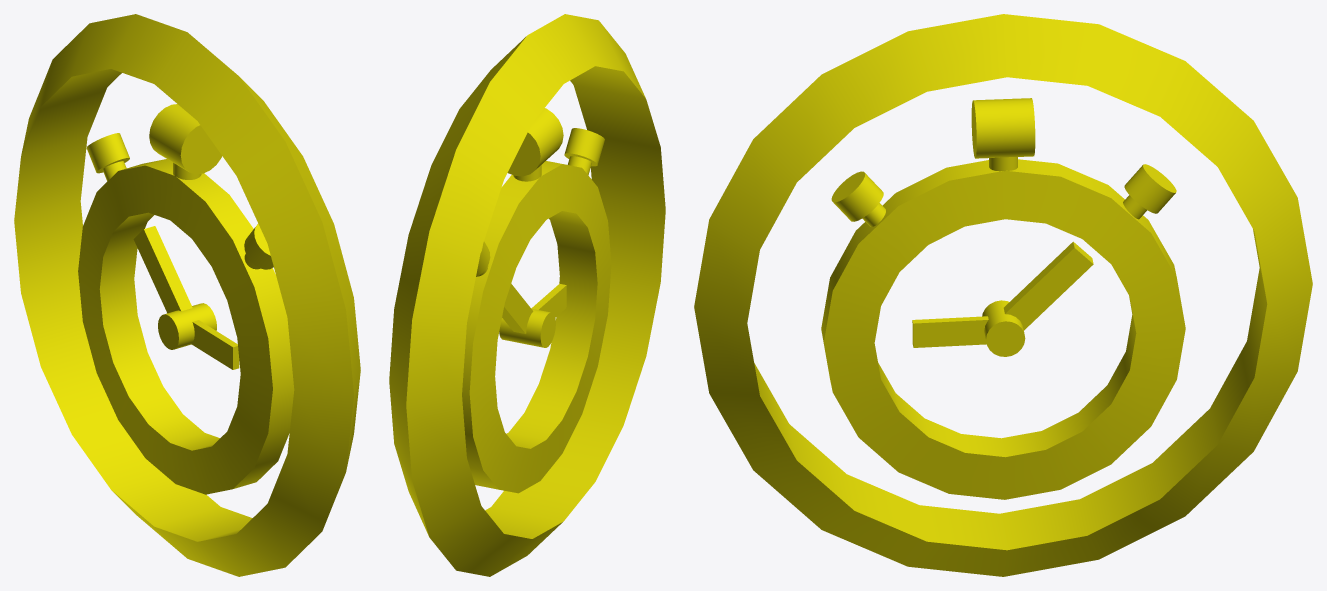
Rendered from powerup_slomo.fbx.
3 views of the same model, side by side, from view 1: azimuth 30°, elevation 25°; view 2: azimuth 150°, elevation 25°; view 3: azimuth 270°, elevation 25° (orthographic). The views are drawn at different scales.
Visible parts, largest first — view 1: pCube4; view 2: pCube4; view 3: pCube4.
Part boxes in pixels (left/top/right/bottom): pCube4: left=14, top=14, right=360, bottom=576; pCube4: left=389, top=14, right=665, bottom=576; pCube4: left=694, top=14, right=1312, bottom=576.
Size of the model in its own units: 1.12 by 5.28 by 5.26.
